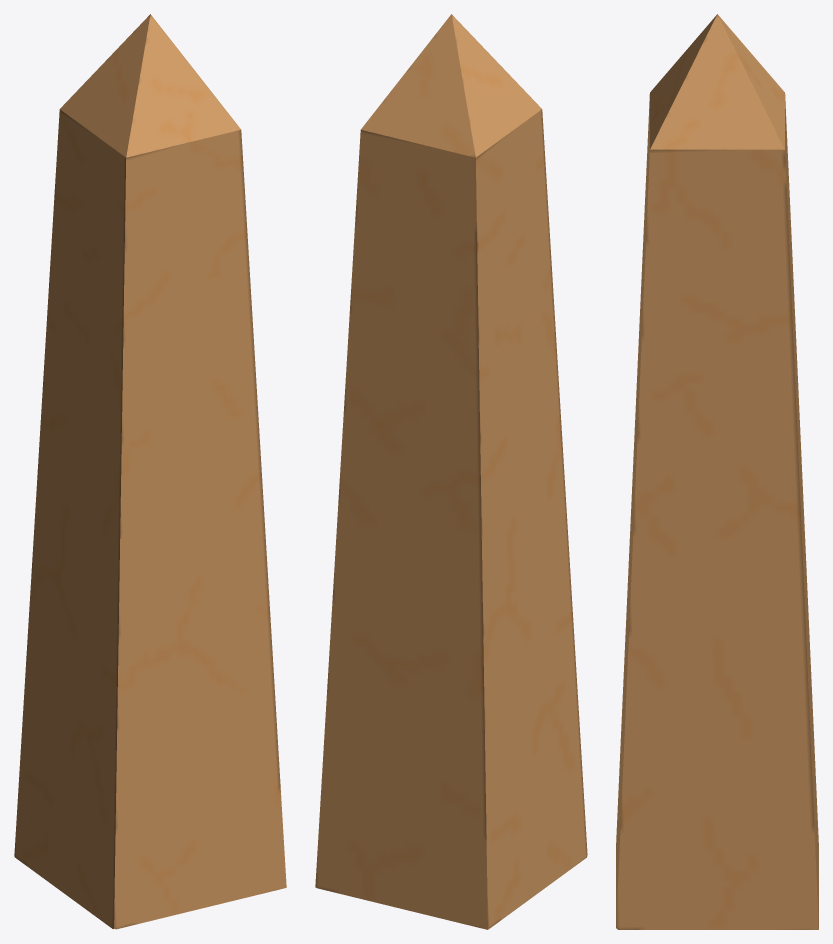
The model's file is Obelisk.fbx.
The picture shows the model from 3 angles, left to right: view 1: azimuth 30°, elevation 25°; view 2: azimuth 150°, elevation 25°; view 3: azimuth 270°, elevation 25°; orthographic projection.
Visible parts, largest first — view 1: cuboid, pyramid; view 2: cuboid, pyramid; view 3: cuboid, pyramid.
Boxes of the visible parts, left/top/right/bottom form: cuboid: left=14, top=109, right=286, bottom=929; pyramid: left=60, top=14, right=240, bottom=157; cuboid: left=315, top=109, right=587, bottom=929; pyramid: left=361, top=14, right=541, bottom=157; cuboid: left=616, top=94, right=818, bottom=929; pyramid: left=650, top=14, right=784, bottom=149.
Size of the model in its own units: 150 by 712 by 150.
